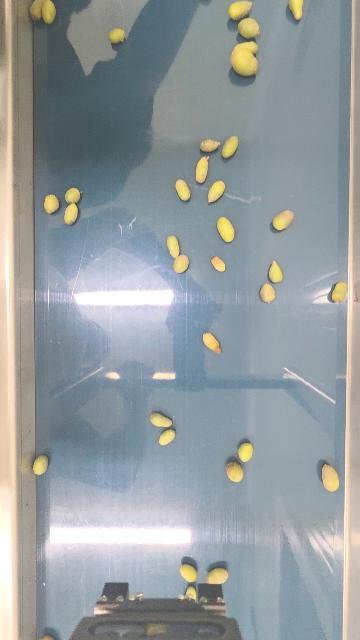Baby Potato: (229, 41, 260, 78), (320, 463, 341, 493), (236, 16, 261, 39), (227, 0, 254, 21), (201, 330, 223, 355), (216, 216, 236, 243), (272, 209, 295, 232), (221, 134, 240, 161), (149, 410, 175, 429), (194, 155, 211, 184), (29, 0, 50, 23), (225, 460, 245, 484), (207, 179, 226, 204), (205, 567, 230, 585), (330, 279, 348, 303), (237, 440, 255, 463), (62, 202, 79, 226), (41, 0, 57, 25), (175, 178, 192, 201), (268, 260, 284, 284), (157, 427, 177, 446), (288, 0, 306, 21), (180, 562, 198, 583), (32, 454, 49, 476), (166, 234, 182, 257), (199, 137, 222, 153), (259, 282, 276, 303), (173, 254, 190, 274), (43, 193, 59, 214), (108, 27, 127, 44), (241, 39, 260, 54), (65, 187, 81, 204), (211, 255, 226, 272), (185, 585, 198, 600), (37, 634, 60, 640)
